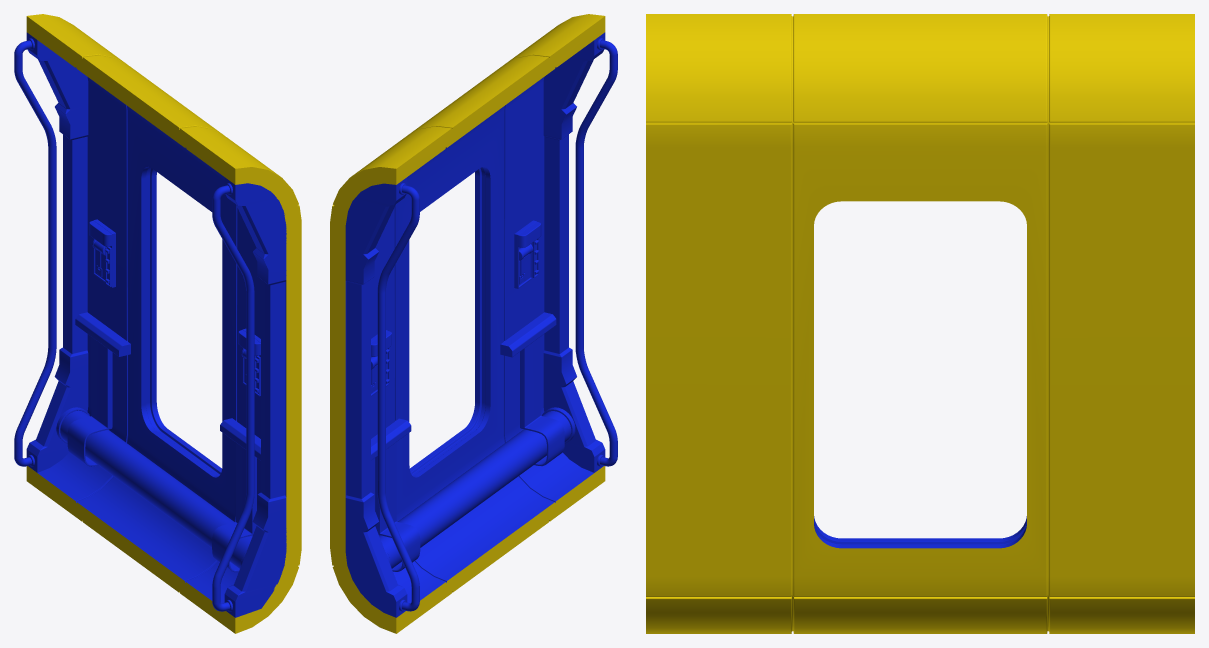
The model's file is Wall03.fbx.
3 views of the same model, side by side, from view 1: azimuth 30°, elevation 25°; view 2: azimuth 150°, elevation 25°; view 3: azimuth 270°, elevation 25° (orthographic). The views are drawn at different scales.
Visible parts, largest first — view 1: SM_Wall03; view 2: SM_Wall03; view 3: SM_Wall03.
Part boxes in pixels (x1=…): SM_Wall03: x1=14, y1=14, x2=301, y2=633; SM_Wall03: x1=330, y1=14, x2=617, y2=633; SM_Wall03: x1=646, y1=14, x2=1194, y2=633.
Size of the model in its own units: 0.8094 by 4.3 by 3.5.
